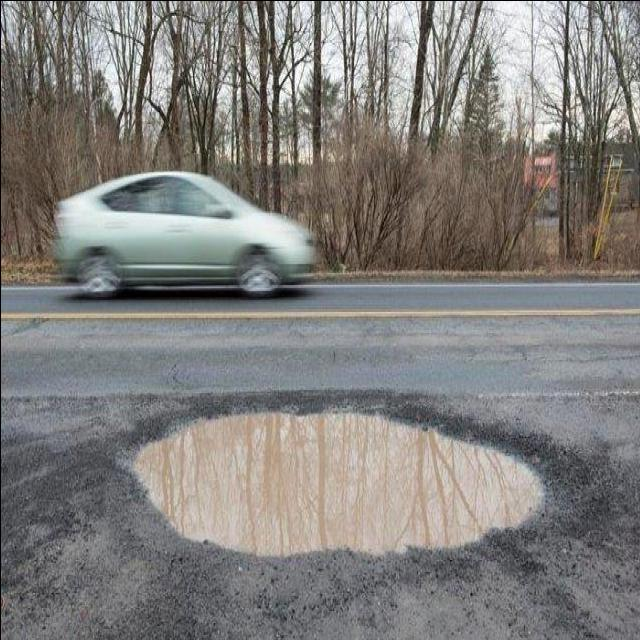jalan retak: (221, 308, 307, 348), (557, 336, 639, 368), (458, 336, 530, 368), (0, 308, 53, 344)
lubang: (117, 380, 562, 576)
